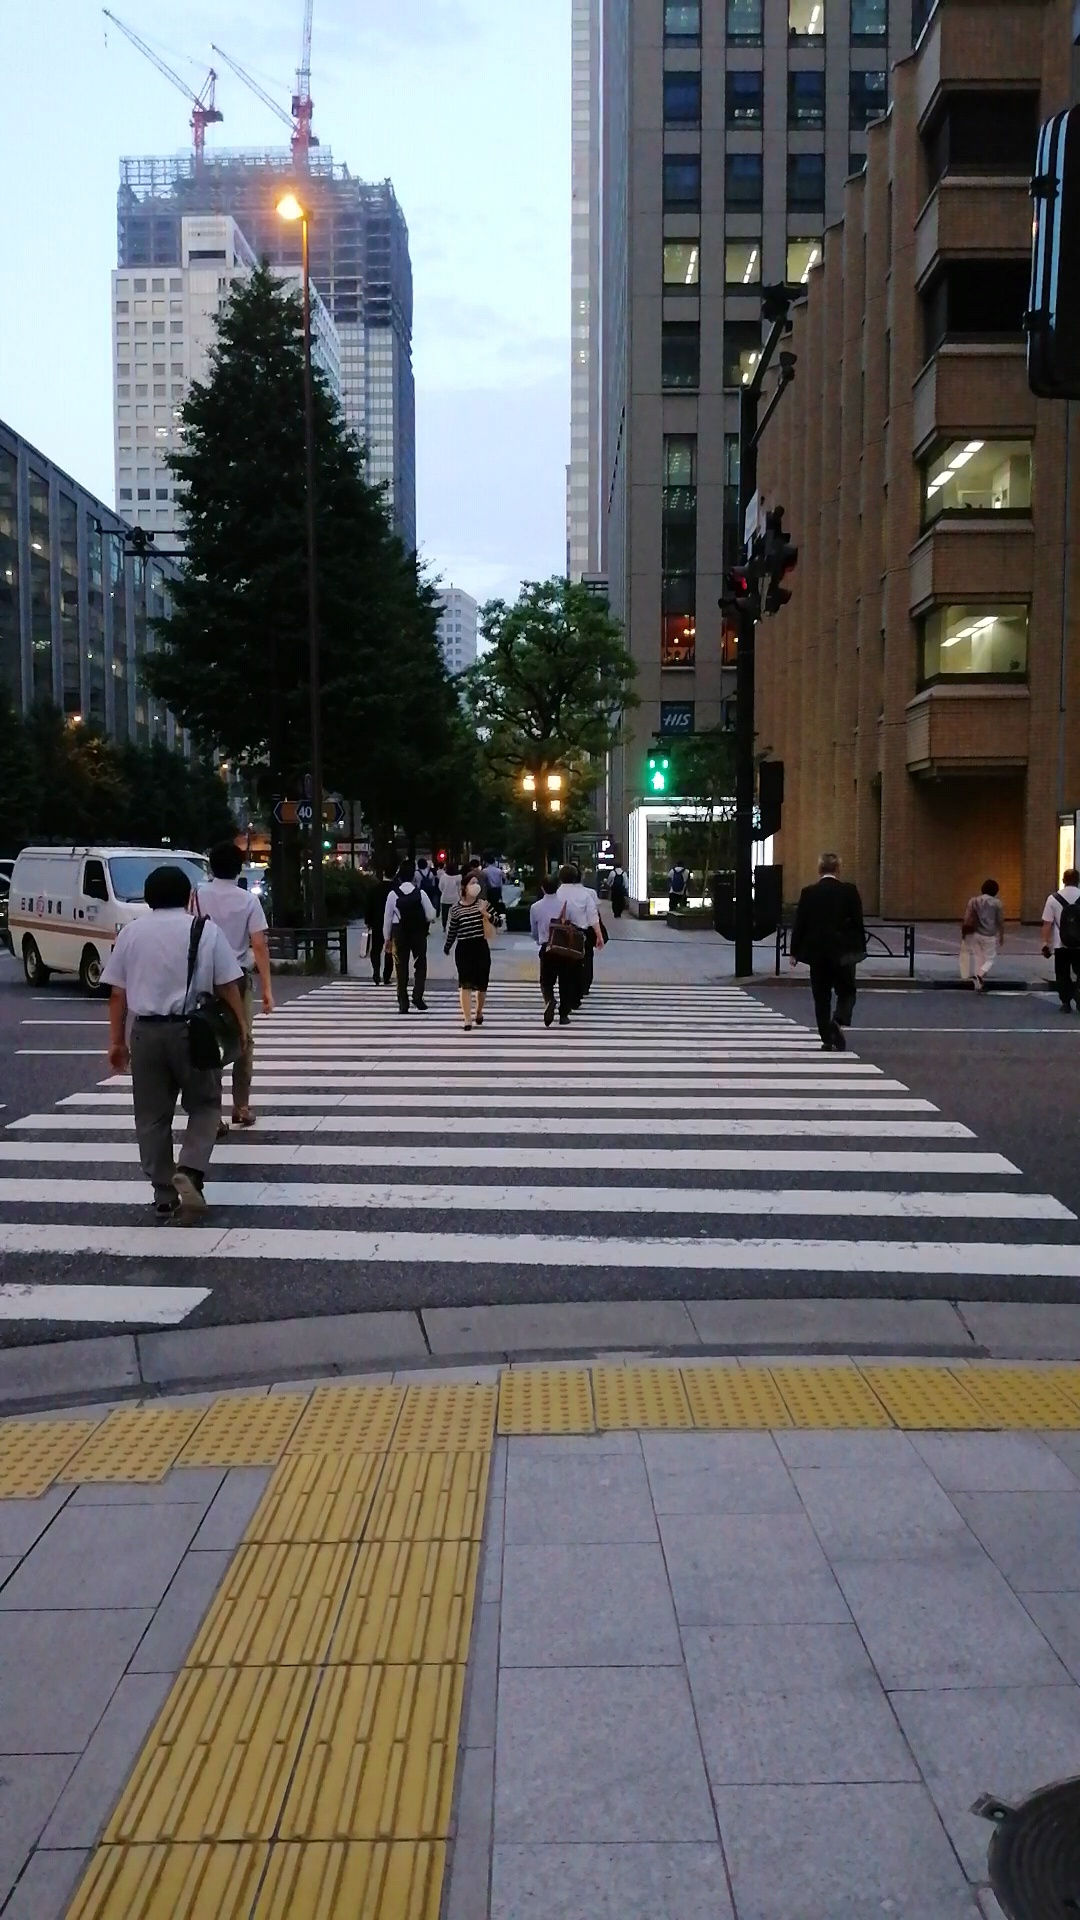green: (644, 746, 671, 793)
